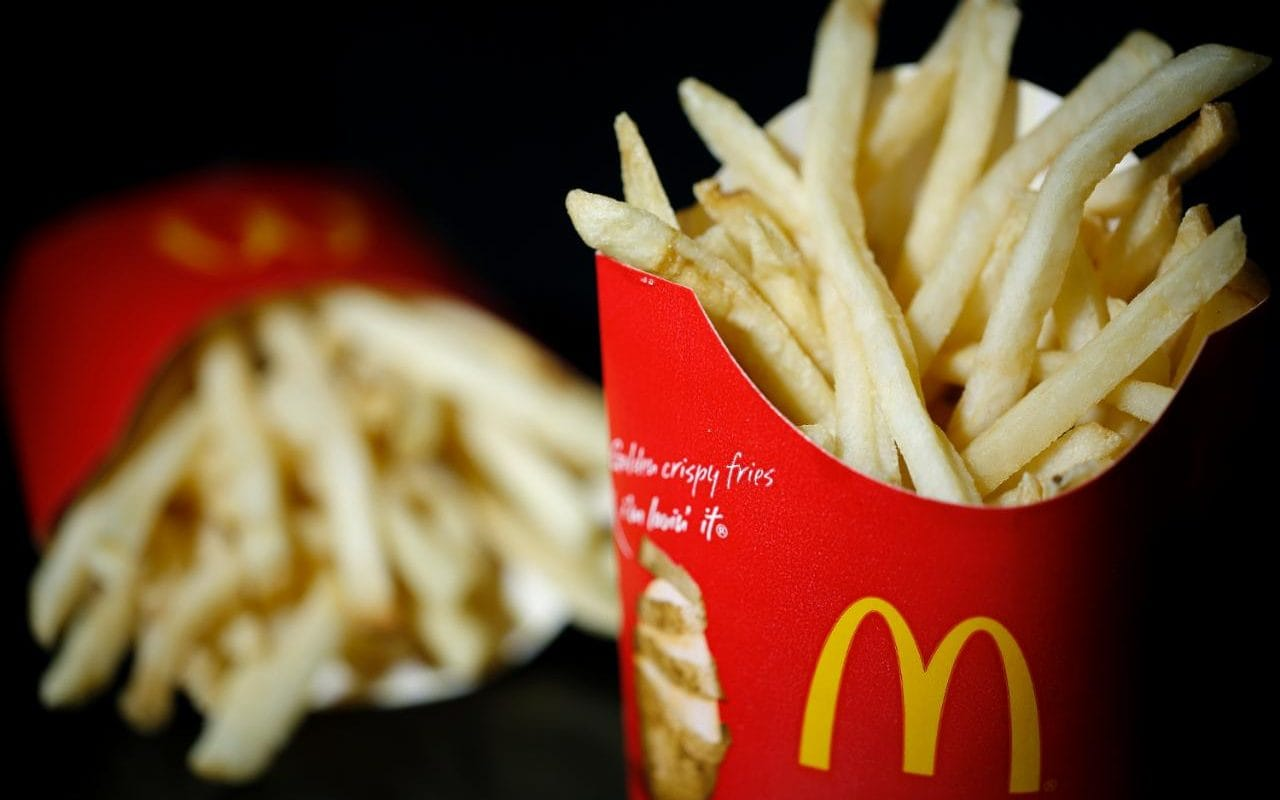mcdonalds: (794, 592, 1047, 793)
